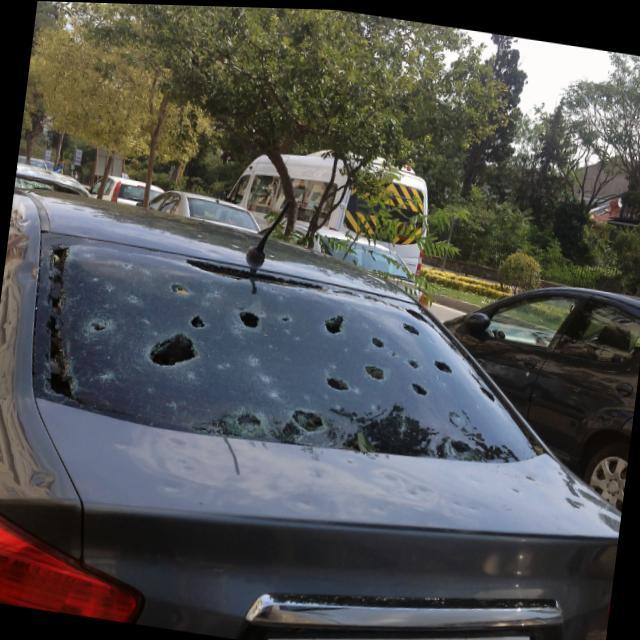dent: (283, 491, 321, 513), (164, 454, 198, 475), (444, 493, 479, 511), (405, 480, 435, 501), (373, 467, 403, 484), (156, 479, 184, 493), (166, 435, 189, 449), (520, 469, 537, 479), (506, 483, 522, 492)
glass shatter: (32, 230, 538, 459)
